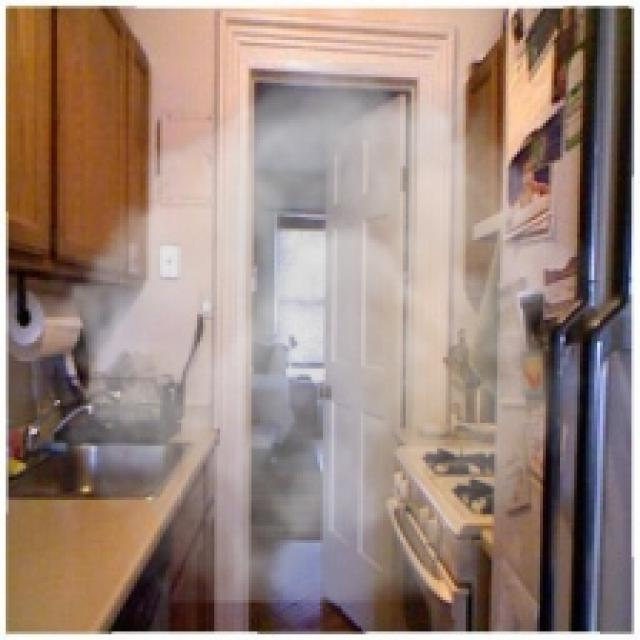Smoke: (31, 63, 598, 603)
